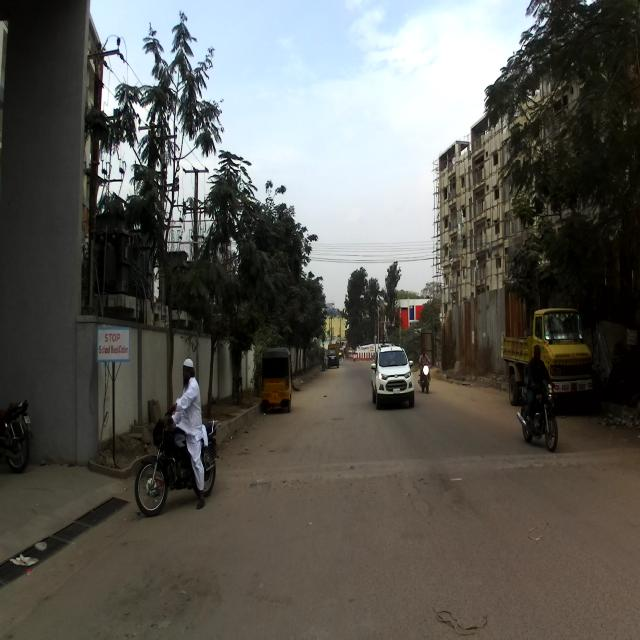car ahead at: (367, 340, 416, 414)
motorcycle ahead at: (135, 402, 221, 516)
